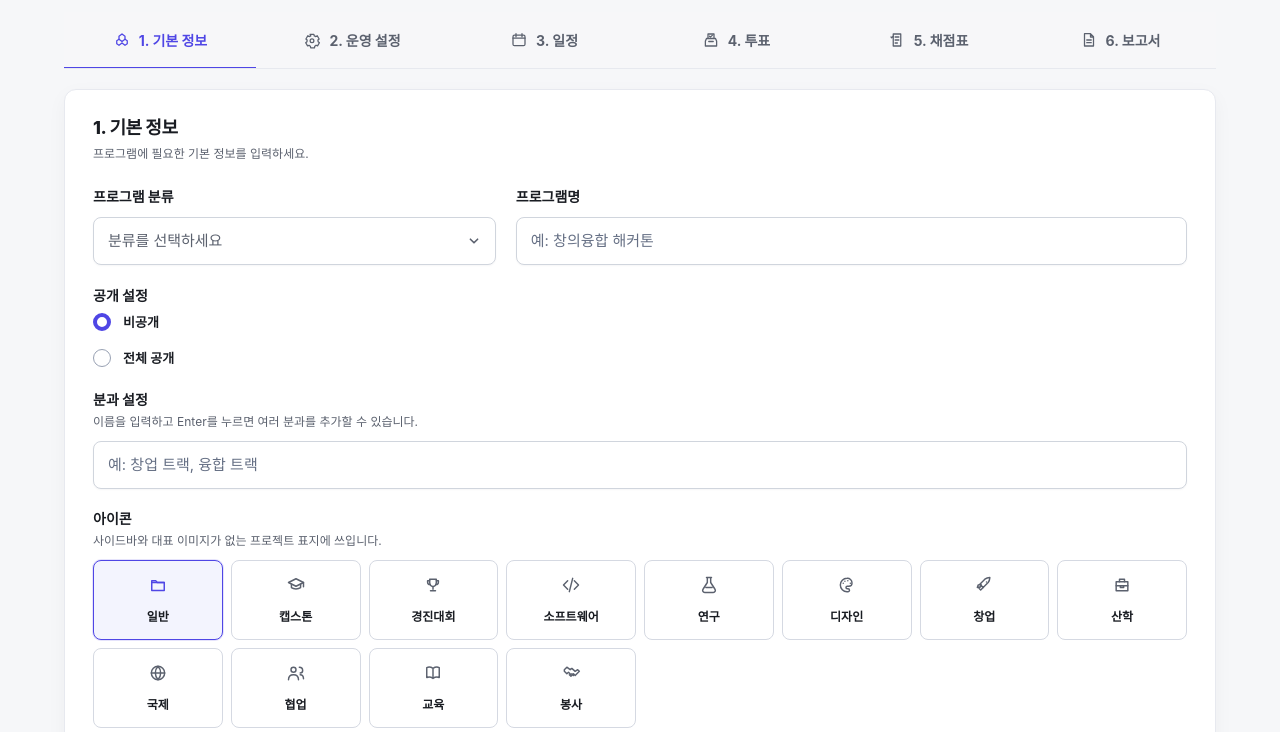
ProgramForm › 채점표 단계는 빈 항목이 있어도 다음 단계로 이동하고 최종 등록에서만 검사한다
The width and height of the screenshot is (1280, 732).
Click the button "5. 채점표" at x=928, y=40, box [832,12,1024,68]
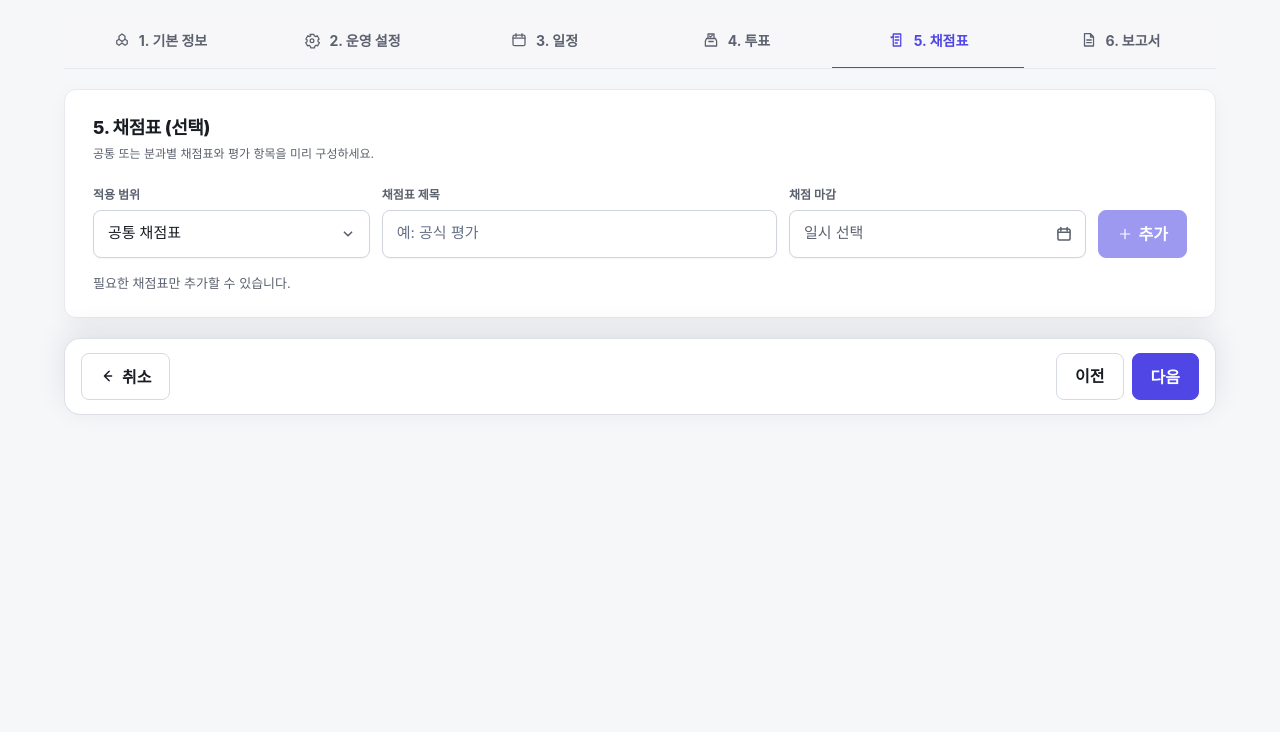
Click the button "다음" at x=1165, y=376, box [1132,353,1199,400]
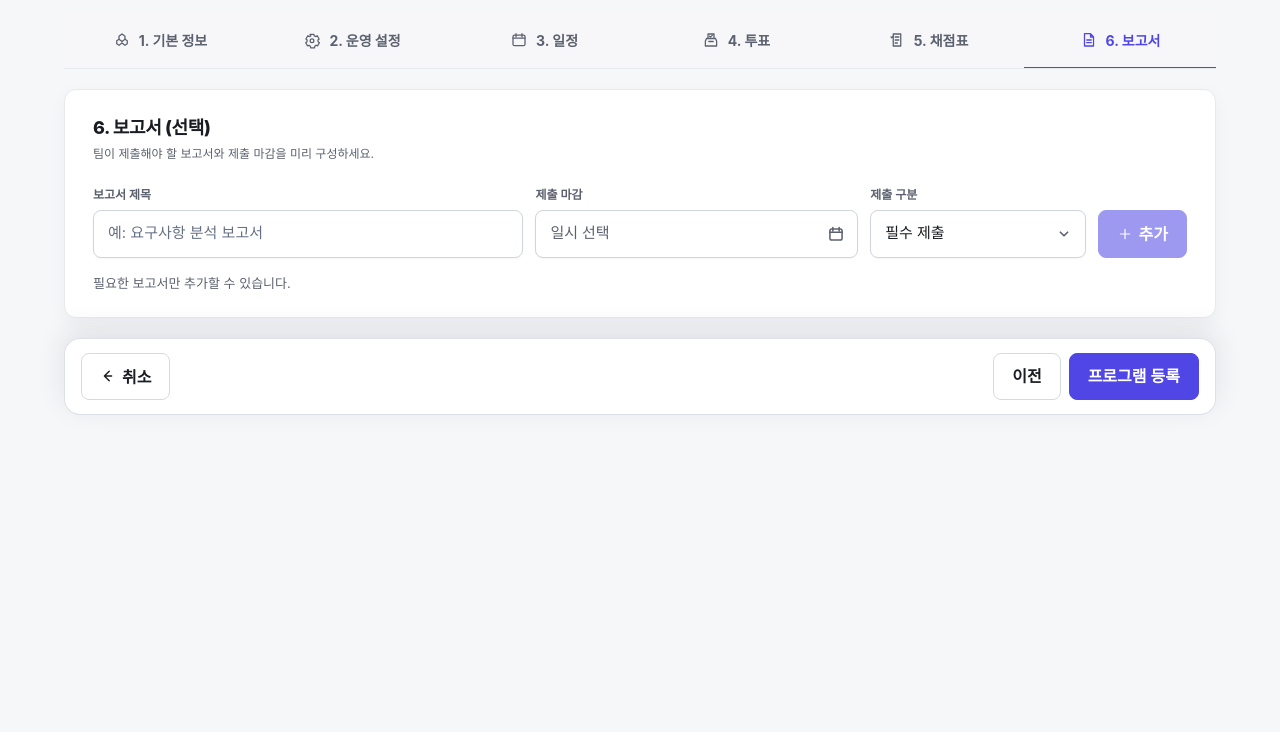
Check: the heading "6. 보고서 (선택)" is shown, box [93,117,210,138]
